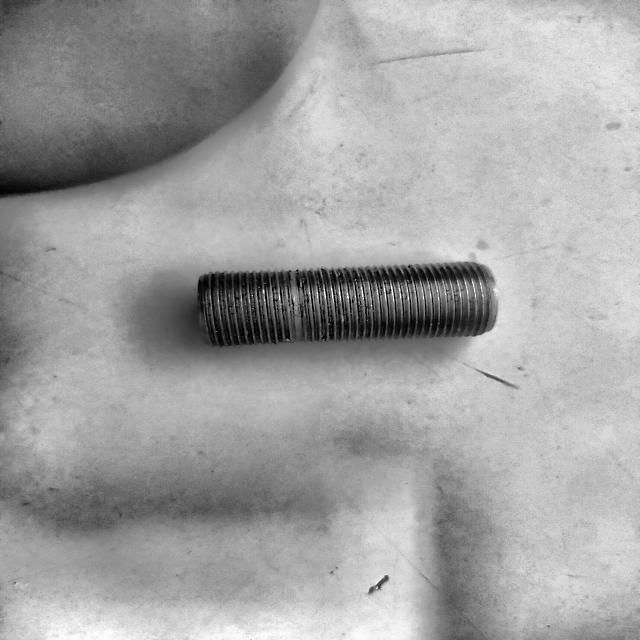Broken: (196, 260, 499, 349)
